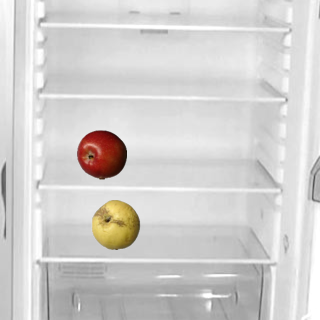Apple Braeburn: (76, 129, 126, 179)
Apple Golden 1: (90, 199, 140, 249)
